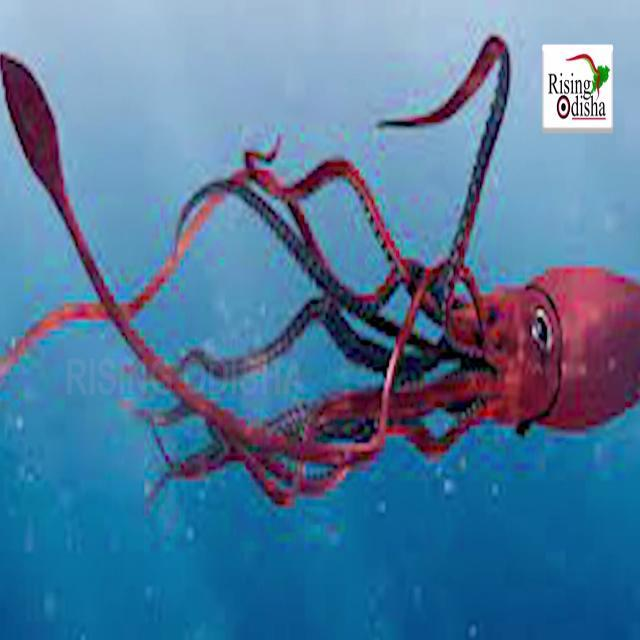squid: (0, 33, 640, 507)
